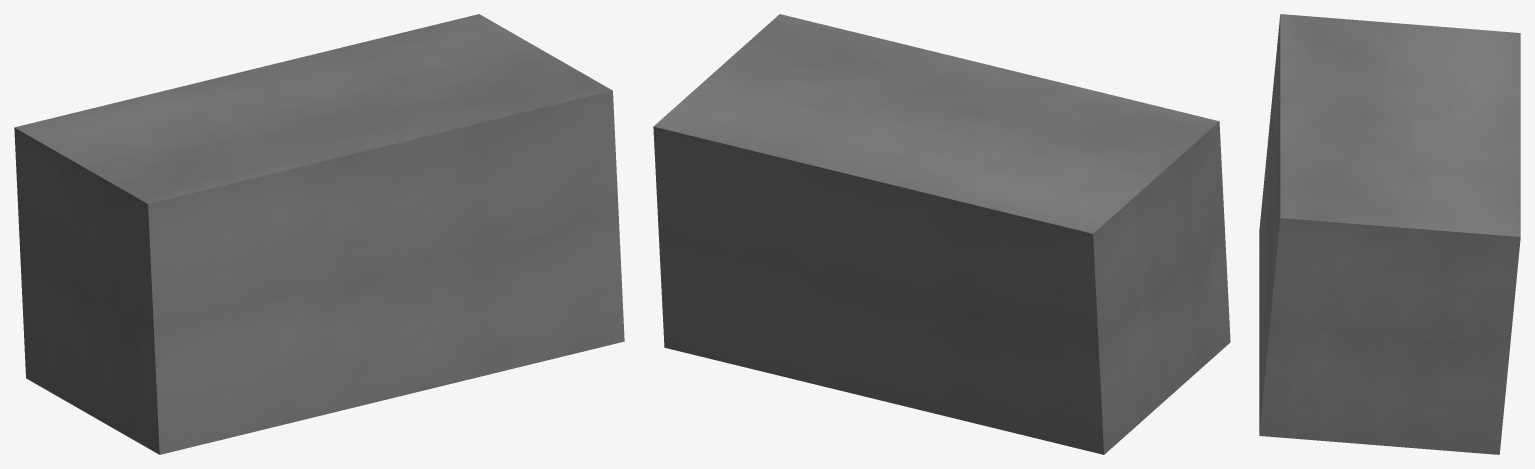
The model's file is dc_metro_arch_a11.obj.
3 views of the same model, side by side, from view 1: azimuth 30°, elevation 25°; view 2: azimuth 150°, elevation 25°; view 3: azimuth 270°, elevation 25° (orthographic). The views are drawn at different scales.
Parts seen in each view (by area): view 1: part11; view 2: part11; view 3: part11.
Boxes of the visible parts, x1=… form: part11: x1=14, y1=14, x2=624, y2=454; part11: x1=653, y1=14, x2=1230, y2=454; part11: x1=1259, y1=14, x2=1520, y2=454.
Bounding box in the file's own units: 2 × 1.08 × 1.08.
Materials: 1 (1 with a texture image).
